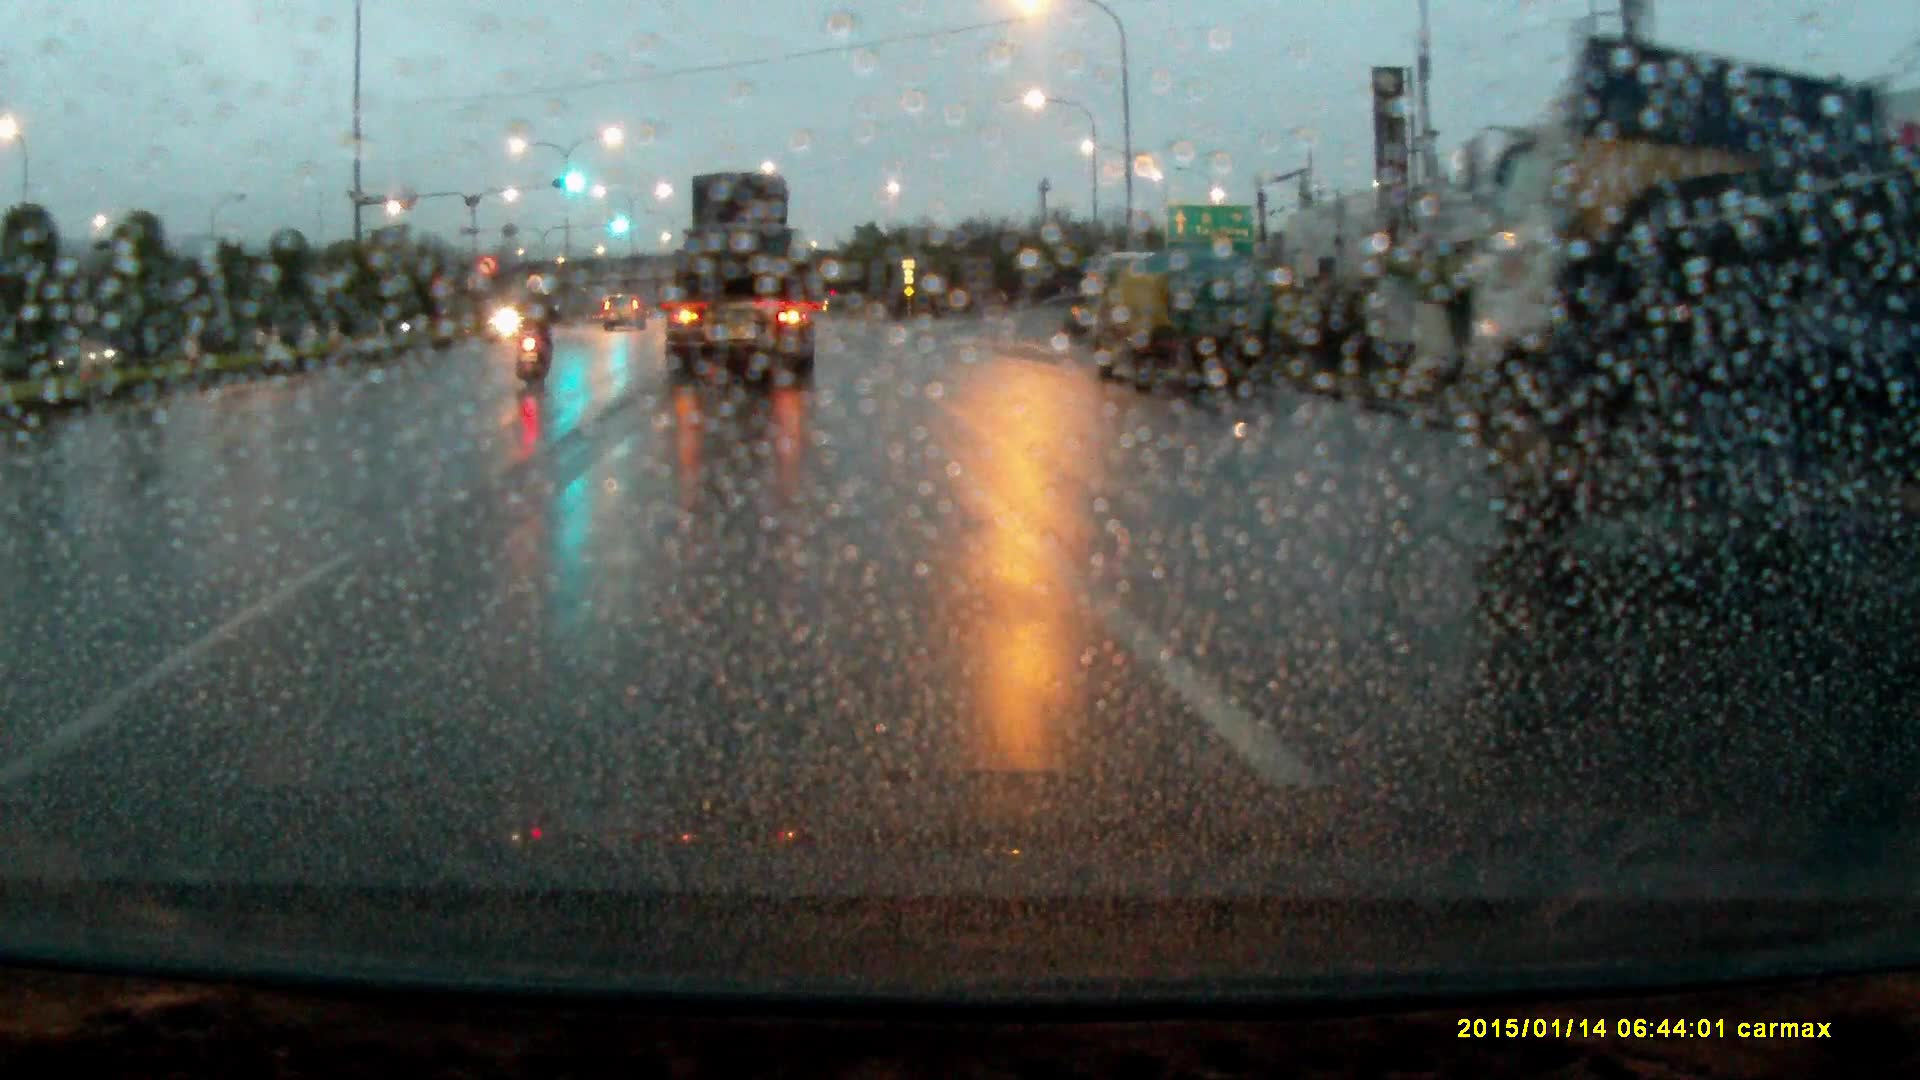rider: (511, 272, 565, 379)
vehicle: (1481, 35, 1920, 545), (660, 169, 820, 394), (1076, 252, 1281, 398), (603, 294, 647, 334)
